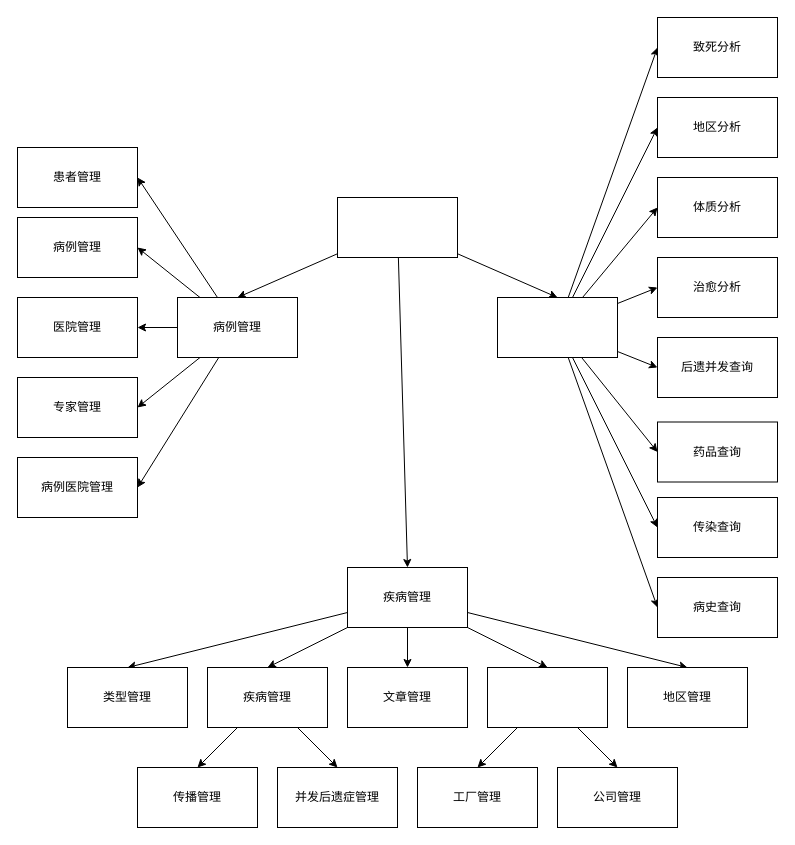
Image size: 795x845. Some labels were removed from this diagram. Each missing label, with the centre of its shape:
"数据分析" belongs at point 557,327.
"登录系统" belongs at point 397,227.
"药品病例" belongs at point 547,697.
